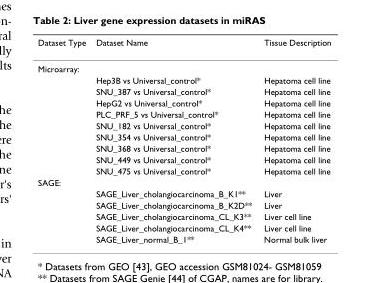table: (37, 36, 330, 243)
table column: (90, 36, 257, 243), (257, 36, 330, 243), (37, 36, 90, 243)
table column header: (37, 36, 330, 55)
table projected row header: (37, 55, 330, 74), (37, 176, 330, 187)
table row: (37, 36, 330, 55), (37, 55, 330, 74), (37, 96, 330, 108), (37, 130, 330, 142), (37, 164, 330, 176), (37, 187, 330, 199), (37, 221, 330, 233), (37, 74, 330, 85), (37, 85, 330, 96), (37, 108, 330, 119), (37, 119, 330, 130), (37, 142, 330, 153), (37, 153, 330, 164), (37, 176, 330, 187), (37, 199, 330, 210), (37, 210, 330, 221), (37, 233, 330, 243)
